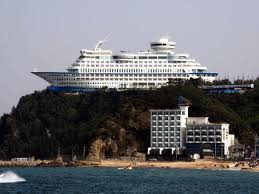tau_dansu: (34, 47, 211, 87)
